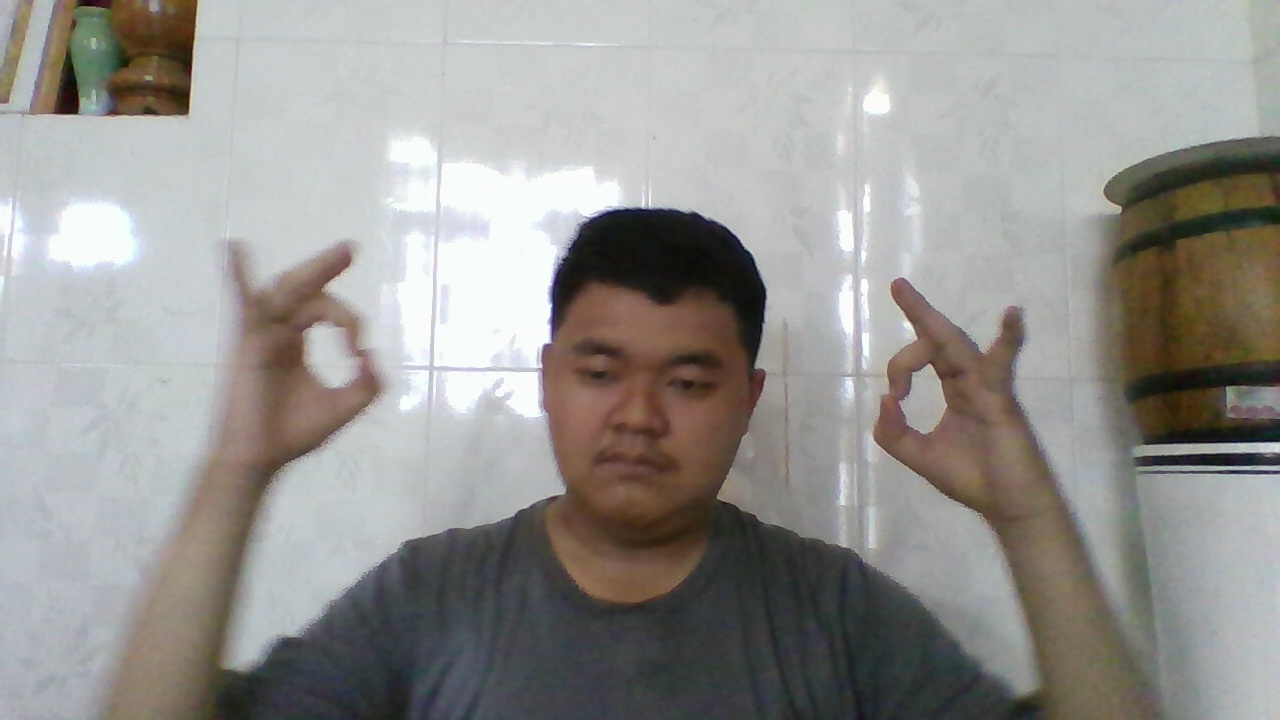H: (869, 271, 1032, 519), (221, 235, 387, 472)
